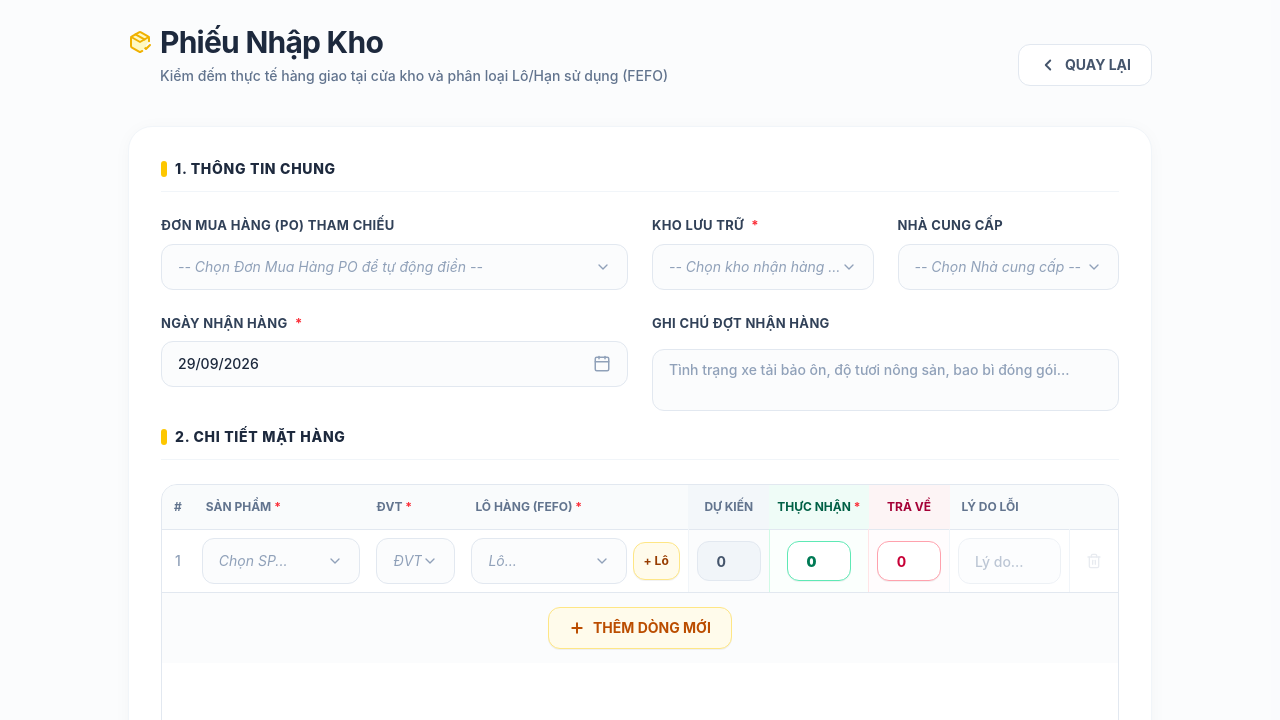
it: Module 10 - InventoryReceiptForm Component › TC03 - Cho phép thêm dòng hàng mới trong bảng kiểm đếm
Click the button "THÊM DÒNG MỚI": [640, 628] box [548, 607, 732, 649]
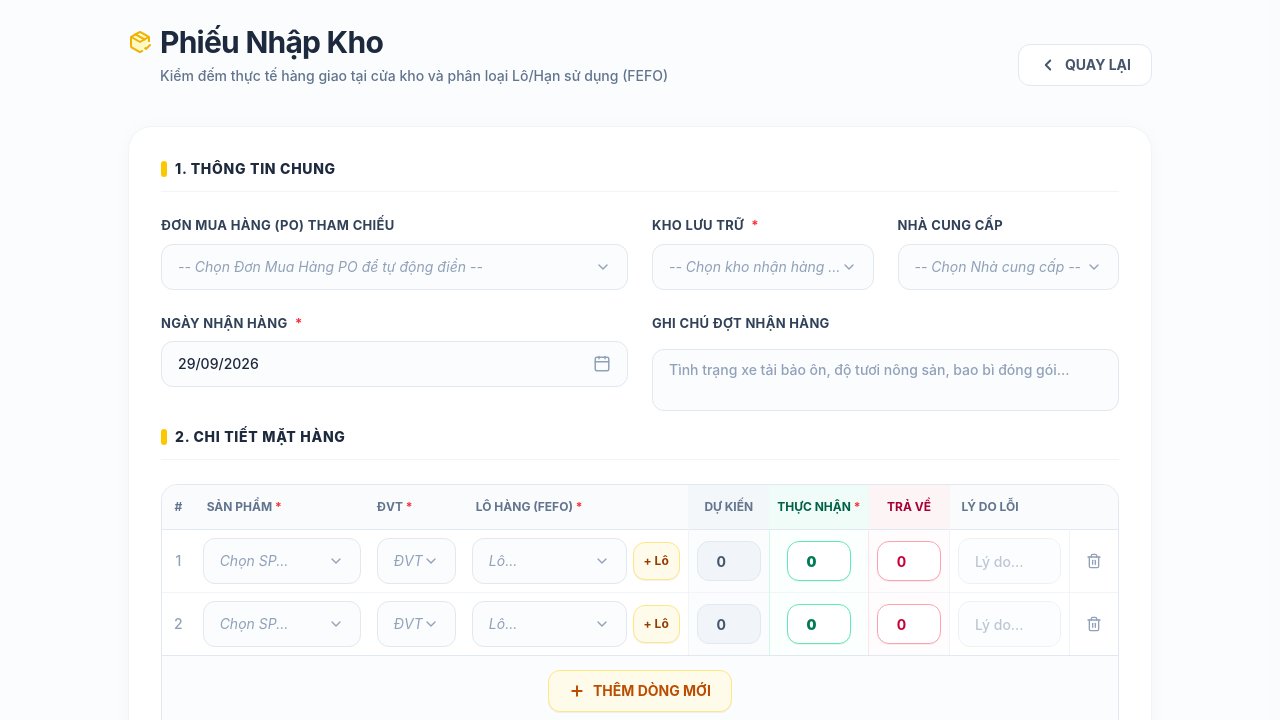
Expected: the text "2" is shown, [162, 592, 195, 655]
